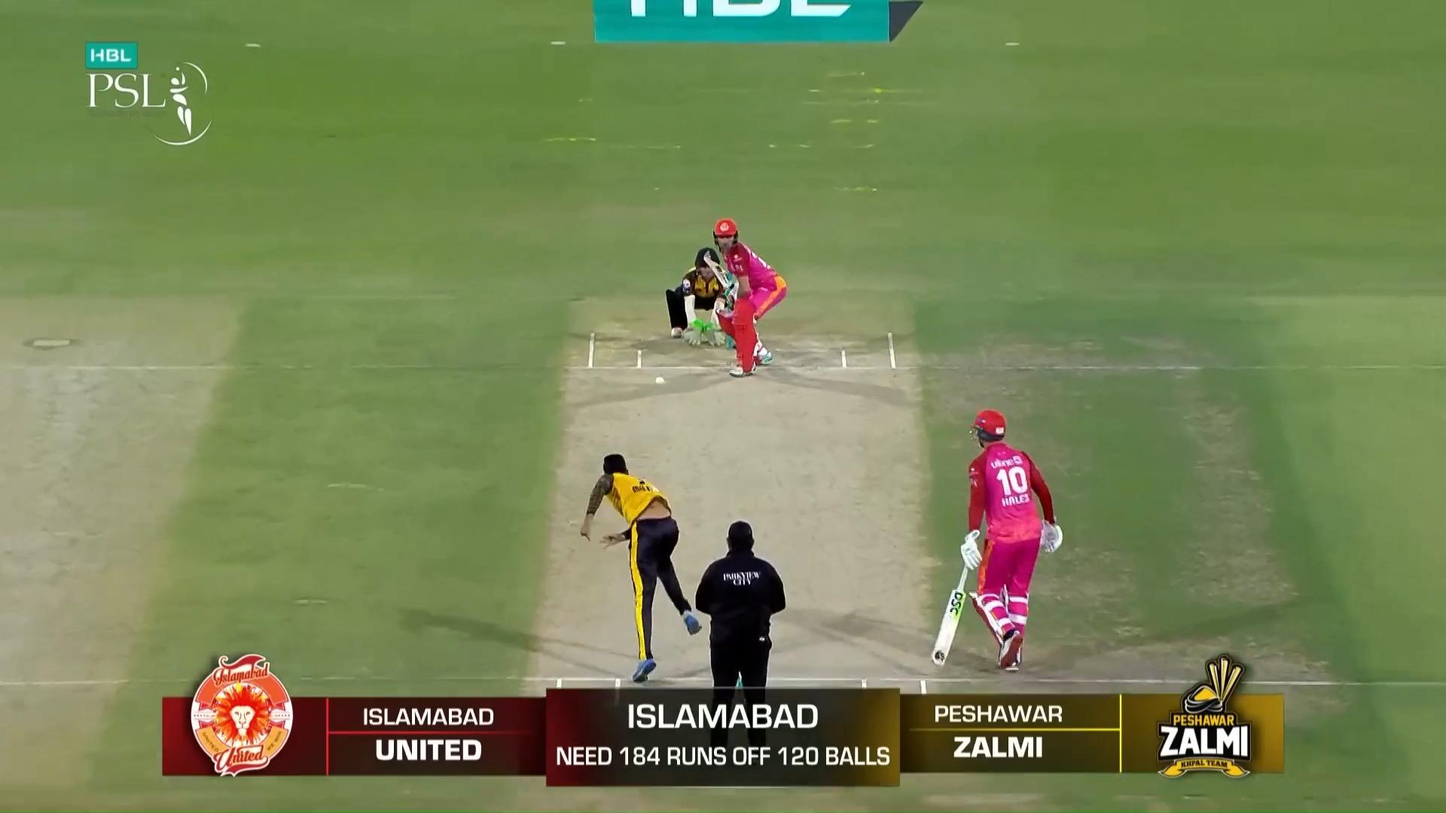batsman: (704, 216, 787, 376)
